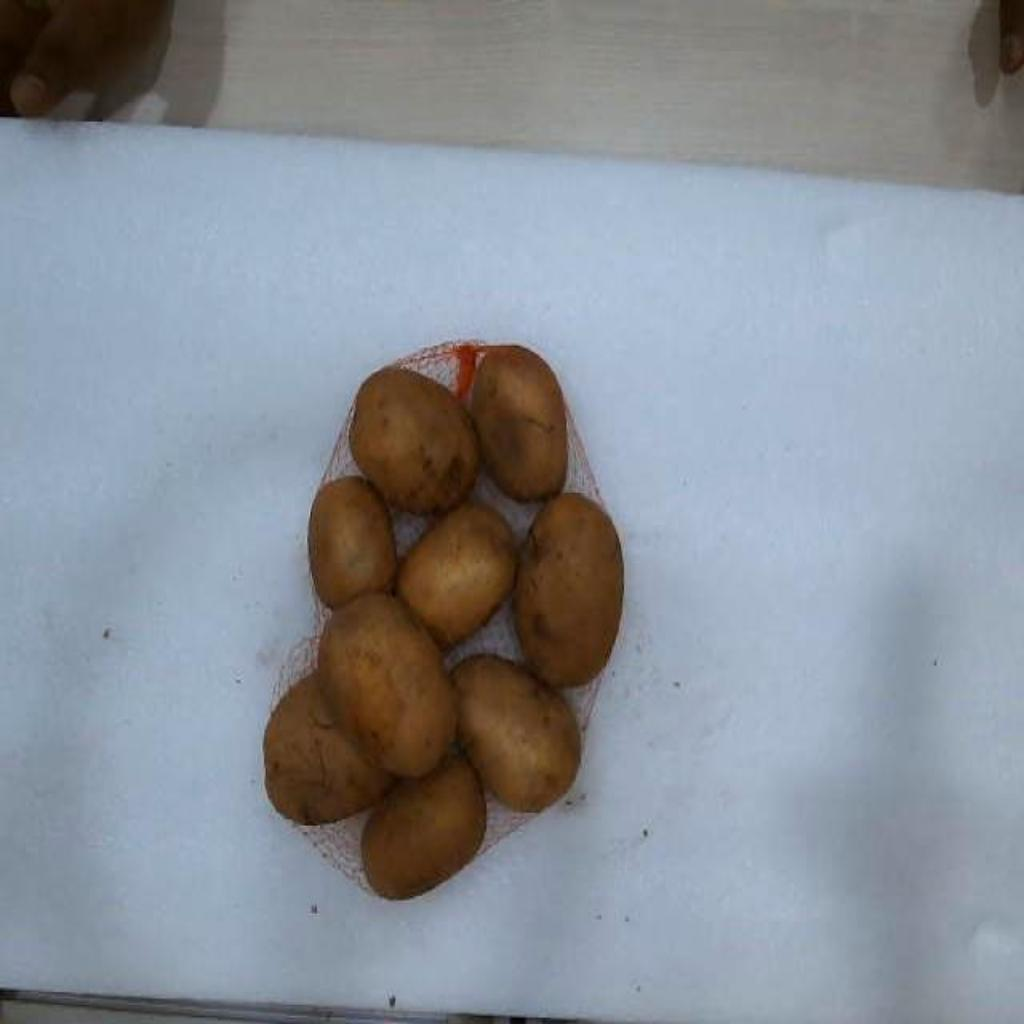potato: (318, 592, 456, 777), (514, 493, 624, 688), (452, 653, 580, 812), (264, 672, 394, 824), (350, 365, 480, 513), (362, 757, 486, 899), (396, 504, 514, 648), (472, 349, 566, 500), (308, 477, 396, 607)
